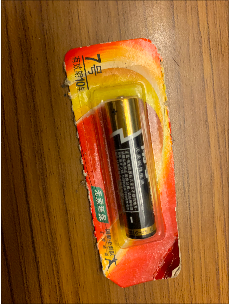object_name: (73, 26, 183, 282)
